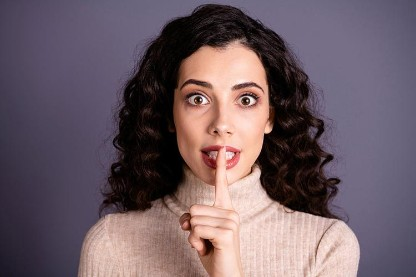张嘴: (200, 141, 241, 175)
